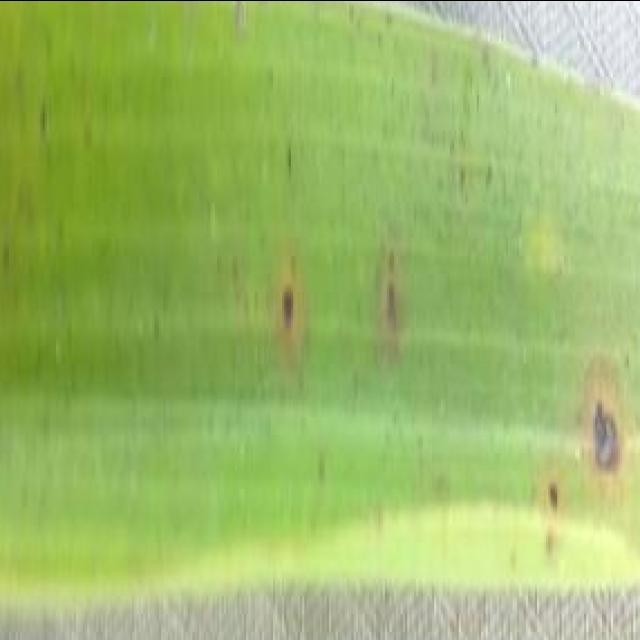Brown_Spot: (582, 401, 636, 484), (372, 278, 416, 352), (273, 280, 311, 347), (78, 118, 105, 164), (372, 492, 396, 542), (544, 474, 570, 520), (226, 250, 248, 304), (36, 94, 60, 143), (537, 524, 566, 564), (14, 181, 36, 233), (29, 338, 52, 385), (231, 0, 255, 45), (347, 367, 369, 414), (38, 396, 58, 445), (282, 144, 304, 186), (434, 468, 458, 506), (150, 311, 170, 356), (470, 88, 490, 126), (0, 238, 18, 280), (65, 51, 87, 85), (42, 27, 61, 65), (430, 52, 448, 92), (316, 452, 334, 490), (382, 248, 402, 282), (481, 163, 501, 197), (255, 225, 275, 258), (526, 50, 548, 78), (175, 0, 212, 16), (372, 27, 392, 56), (376, 423, 396, 452), (461, 318, 481, 347), (56, 217, 72, 251), (508, 542, 524, 576), (476, 42, 494, 72), (266, 65, 284, 94), (288, 255, 304, 287), (486, 428, 504, 454), (378, 114, 394, 143), (344, 4, 360, 32), (432, 174, 450, 197), (457, 168, 472, 195), (384, 7, 400, 31), (434, 222, 448, 248), (622, 352, 638, 374), (414, 434, 430, 456), (458, 128, 472, 152), (390, 76, 400, 105), (260, 0, 278, 16), (461, 190, 477, 208), (553, 100, 564, 116)
